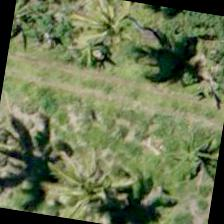Kelapa_Sawit: (40, 135, 142, 223), (57, 0, 158, 74)
